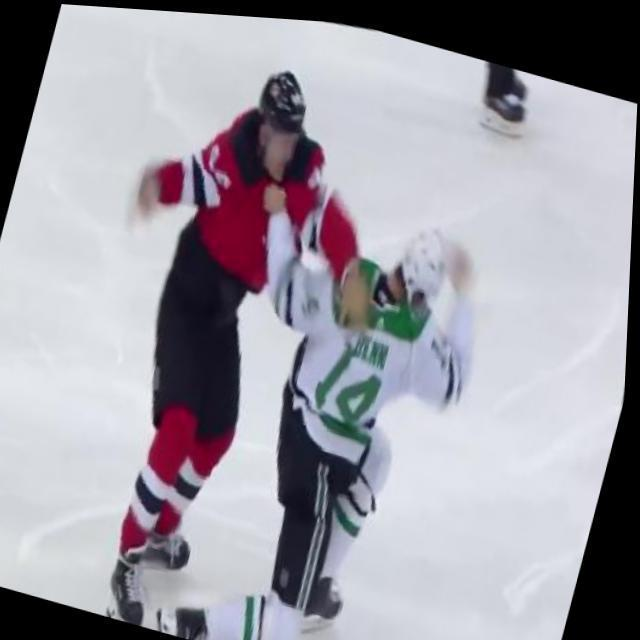fight: (16, 2, 571, 640)
